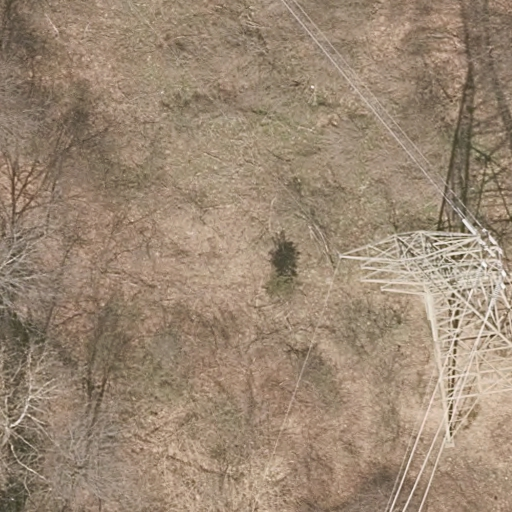TT: (340, 226, 512, 447)
